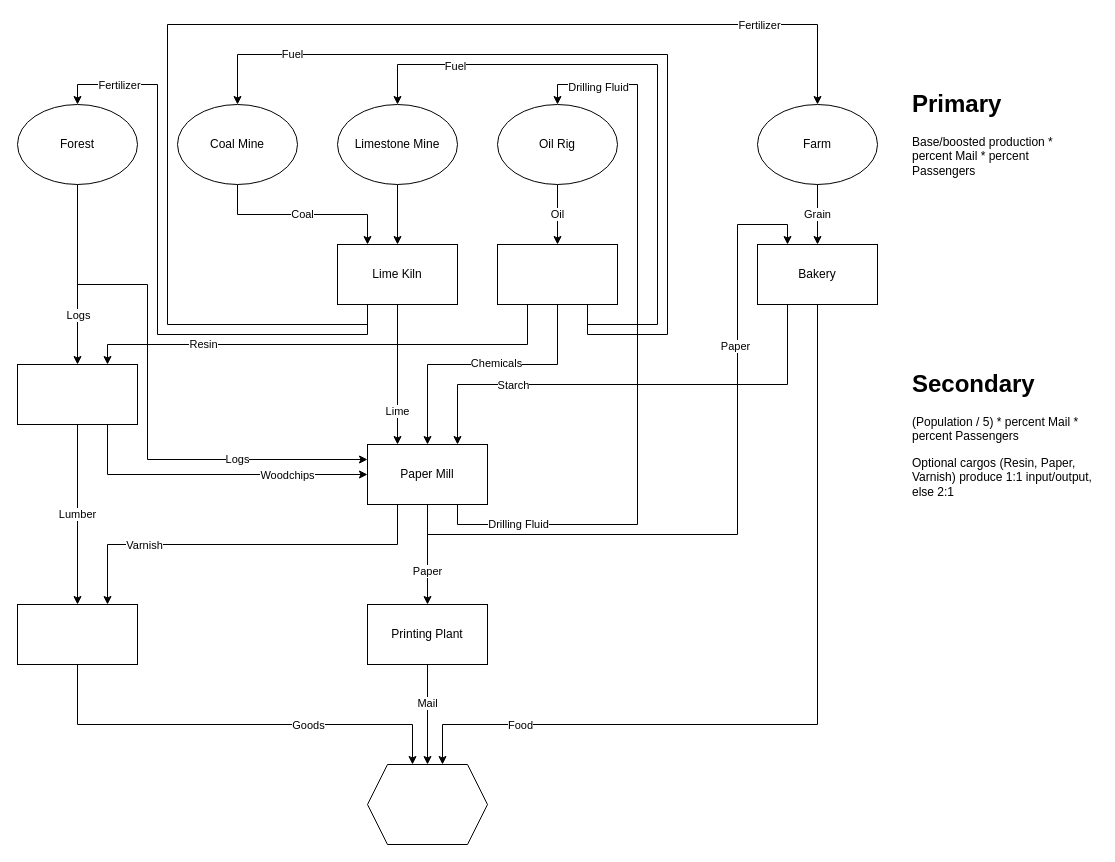
Some shapes in this 1115 by 862 pixel diagram are drawn without their labels. The box of each missing label's shape, as (x1, y1, x2, y2) in pixels:
Chemical Plant: (496, 244, 618, 304)
Furniture Factory: (16, 604, 138, 664)
Houses: (366, 764, 488, 844)
Sawmill: (16, 364, 138, 424)
